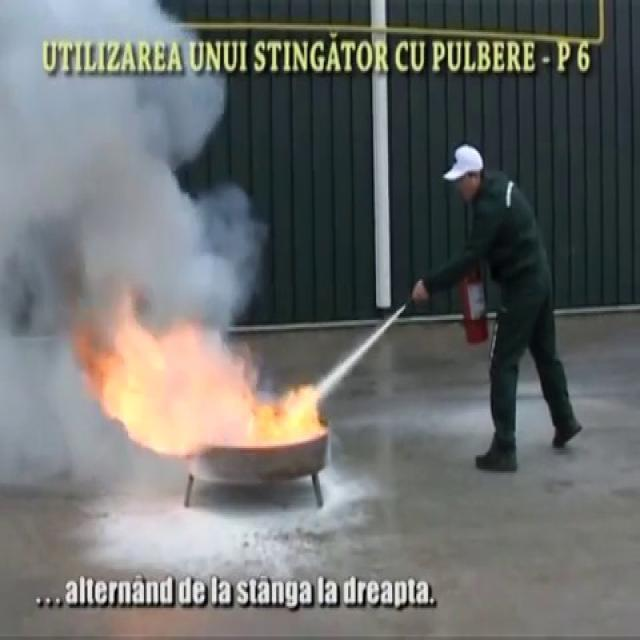Fire: (91, 330, 222, 446), (256, 382, 324, 450)
Smoke: (0, 0, 262, 408)
